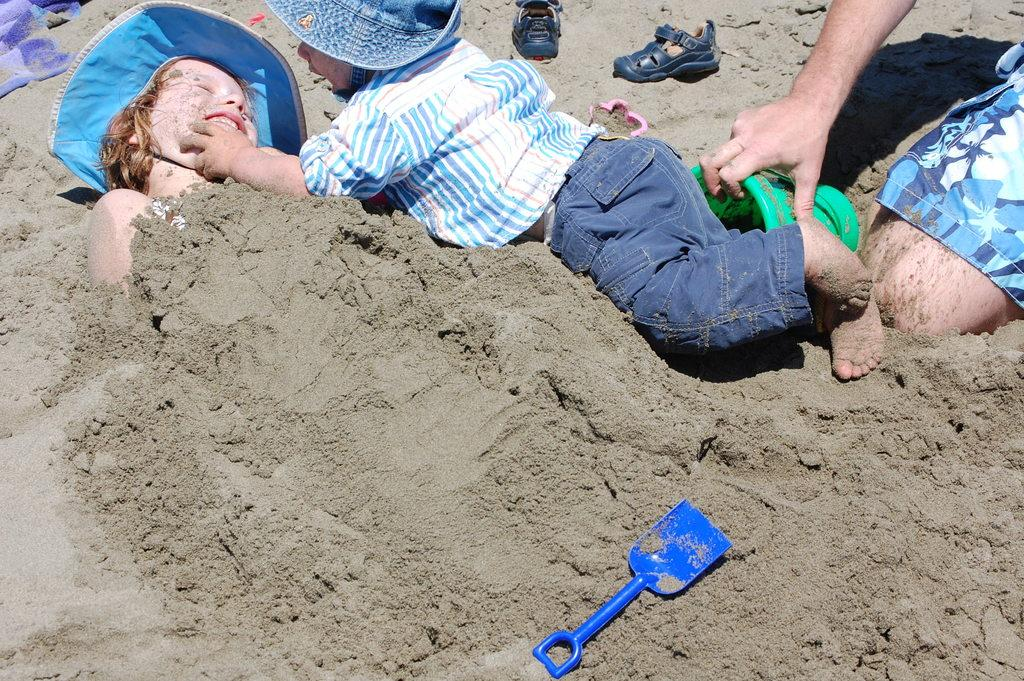Sem Máscara: (142, 54, 255, 168), (295, 35, 345, 92)
